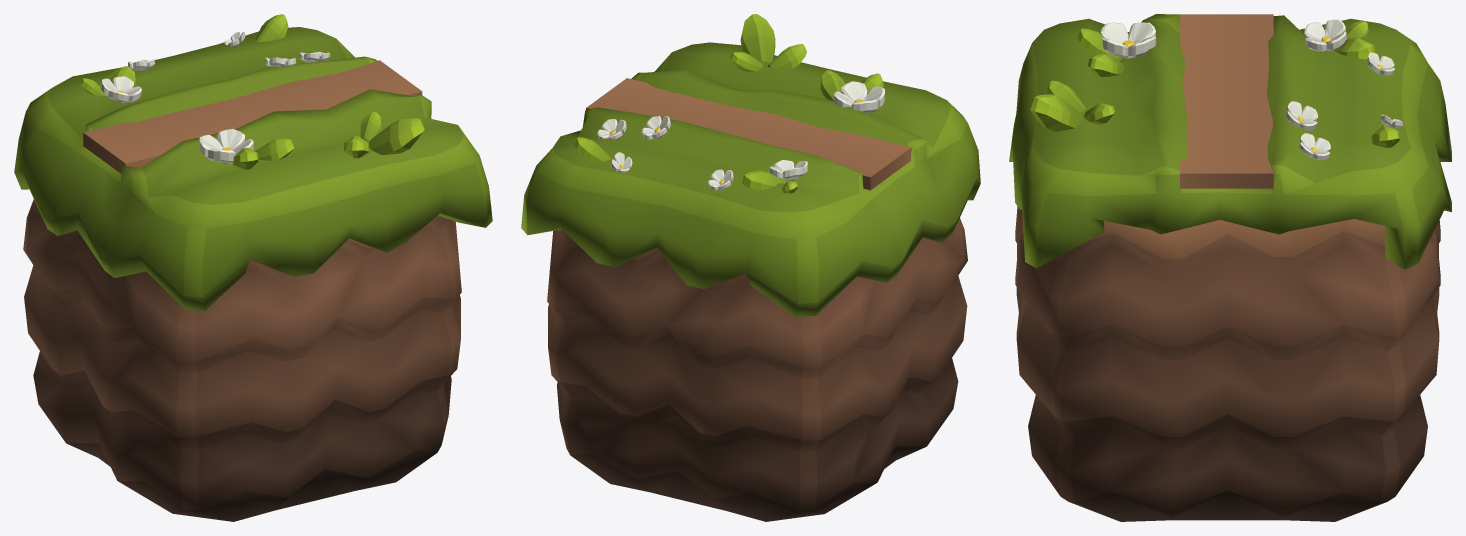
Rendered from Spring_Blok_1.fbx.
3 renders of one model, left to right at view 1: azimuth 30°, elevation 25°; view 2: azimuth 150°, elevation 25°; view 3: azimuth 270°, elevation 25°, orthographic. The views are drawn at different scales.
Visible parts, largest first — view 1: Spring_Cube_01; view 2: Spring_Cube_01; view 3: Spring_Cube_01.
Boxes of the visible parts, box(x1,y1,x2,y2) form: Spring_Cube_01: box(14, 14, 492, 521); Spring_Cube_01: box(521, 14, 980, 521); Spring_Cube_01: box(1009, 14, 1451, 521).
Bounding box in the file's own units: 101 × 108 × 103.
